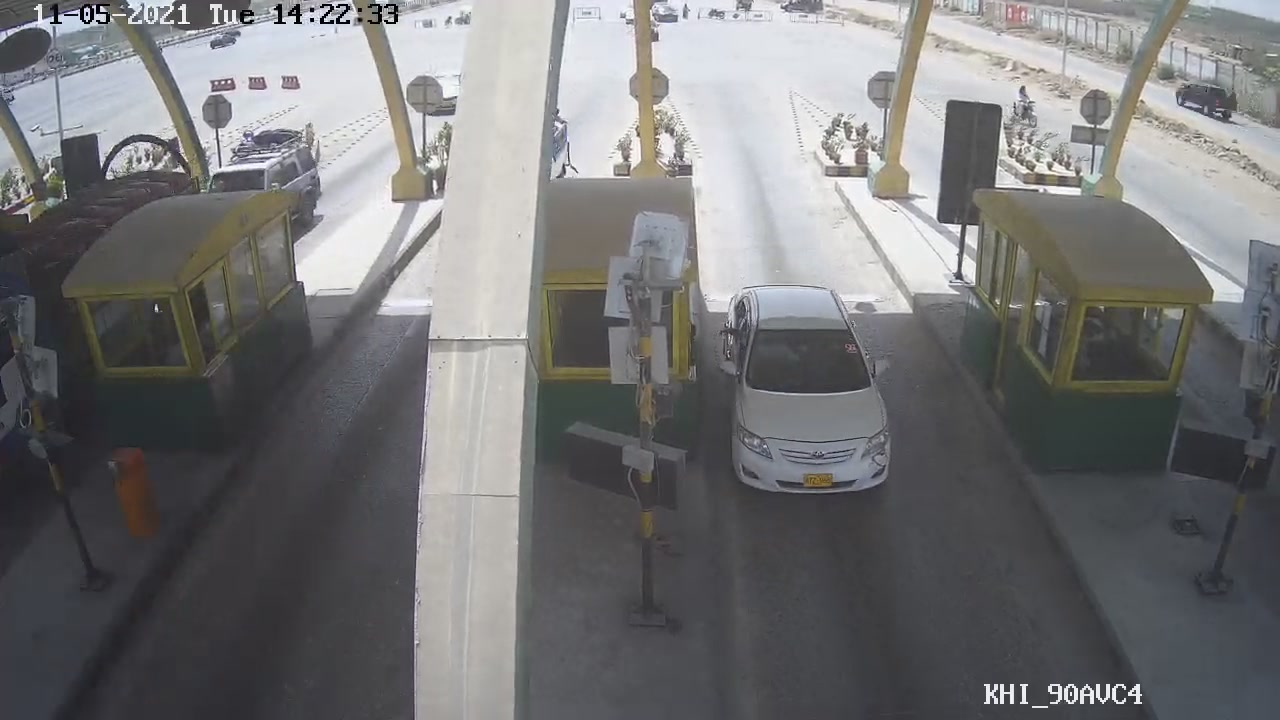F1: (717, 276, 898, 492)
